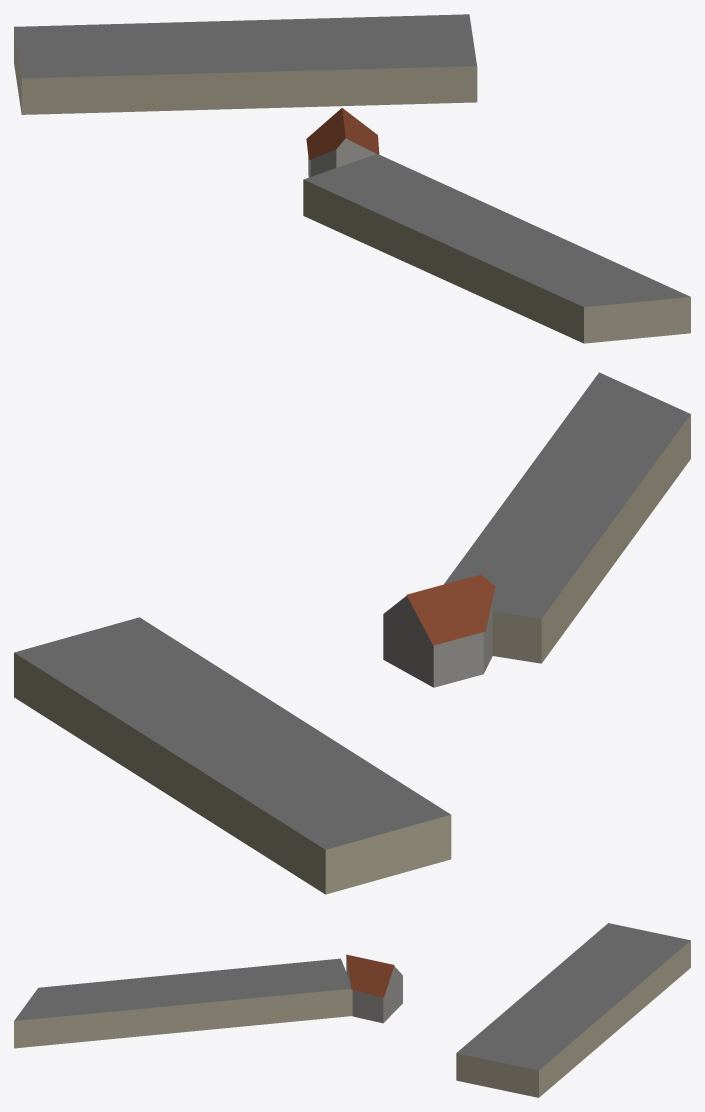
The picture shows the model from 3 angles, top to bottom: view 1: azimuth 30°, elevation 25°; view 2: azimuth 150°, elevation 25°; view 3: azimuth 270°, elevation 25°; orthographic projection. The views are drawn at different scales.
Visible parts, largest first — view 1: buildings; view 2: buildings; view 3: buildings.
Part boxes in pixels (x1,y1,x2,y2): buildings: (14,14,690,343); buildings: (14,372,690,894); buildings: (14,923,690,1097).
Size of the model in its own units: 69.26 by 11.16 by 134.
